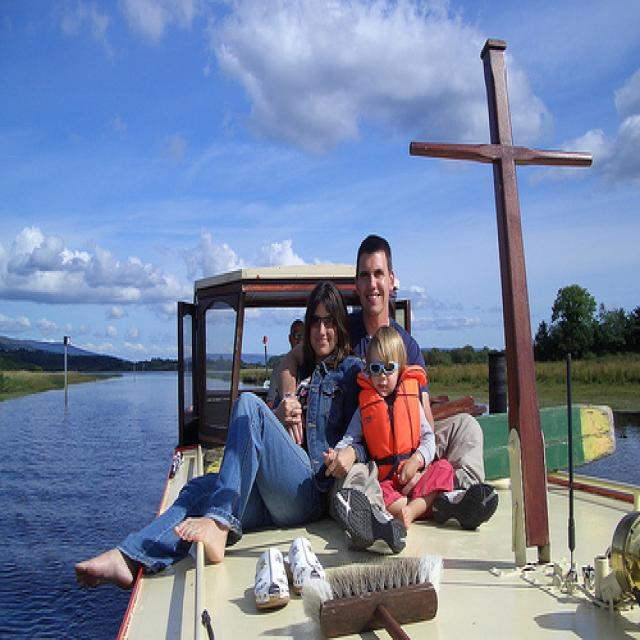adult: (73, 276, 388, 592), (290, 237, 499, 533)
child: (326, 328, 455, 550)
